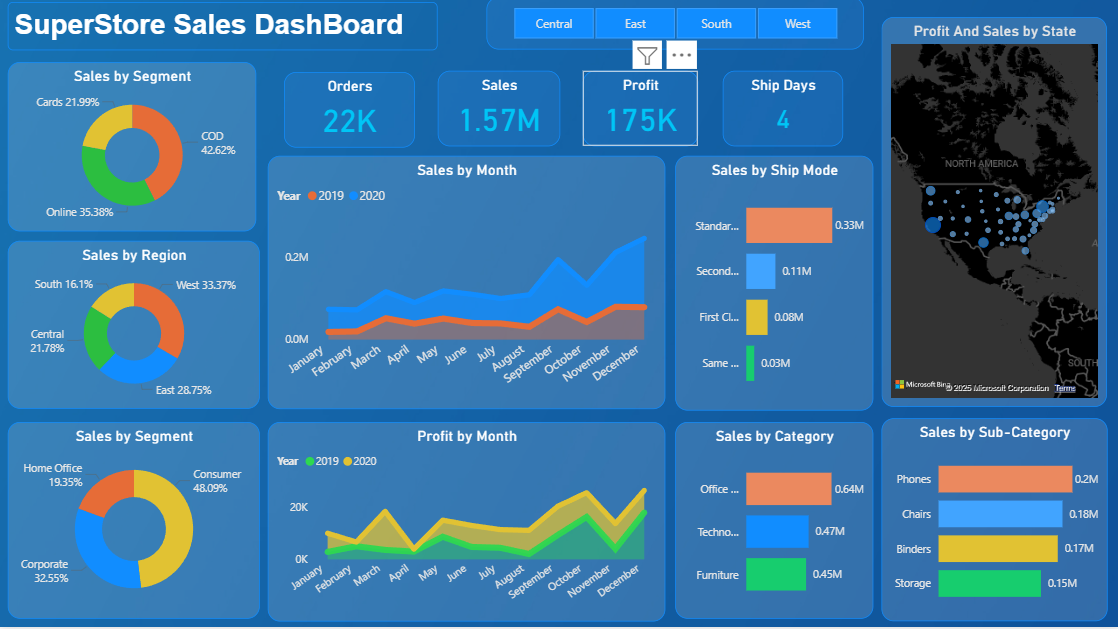

Layout of this report page (visuals, bound fields, positions):
{"tool":"powerbi","page":{"name":"SuperStore","canvas":[1280,720],"ordinal":0},"visuals":[{"type":"clusteredBarChart","title":"Sales by Category","fields":{"Y":["Sum(SuperStore_Sales_Dataset.Sales)"],"Category":["SuperStore_Sales_Dataset.Category"]},"box":[772.6,485.7,226.2,225],"z":0},{"type":"clusteredBarChart","title":"Sales by Sub-Category","fields":{"Y":["Sum(SuperStore_Sales_Dataset.Sales)"],"Category":["SuperStore_Sales_Dataset.Sub-Category"]},"box":[1008.3,481,258.3,232.1],"z":1000},{"type":"clusteredBarChart","title":"Sales by Ship Mode","fields":{"Y":["Sum(SuperStore_Sales_Dataset.Sales)"],"Category":["SuperStore_Sales_Dataset.Ship Mode"]},"box":[772.6,181.1,226.4,290.9],"z":2000},{"type":"stackedAreaChart","title":"Sales by Month","fields":{"Category":["SuperStore_Sales_Dataset.Order Date.Variation.Date Hierarchy.Month","SuperStore_Sales_Dataset.Order Date.Variation.Date Hierarchy.Day"],"Y":["Sum(SuperStore_Sales_Dataset.Sales)"],"Series":["SuperStore_Sales_Dataset.Order Date.Variation.Date Hierarchy.Year"]},"box":[307.4,181.1,454.2,289.5],"z":3000},{"type":"stackedAreaChart","title":"Profit by Month","fields":{"Category":["SuperStore_Sales_Dataset.Order Date.Variation.Date Hierarchy.Month","SuperStore_Sales_Dataset.Order Date.Variation.Date Hierarchy.Day"],"Series":["SuperStore_Sales_Dataset.Order Date.Variation.Date Hierarchy.Year"],"Y":["Sum(SuperStore_Sales_Dataset.Profit)"]},"box":[307.4,485.8,454.2,227.8],"z":4000},{"type":"map","title":" Profit And Sales by State","fields":{"Category":["SuperStore_Sales_Dataset.State"],"Size":["Sum(SuperStore_Sales_Dataset.Sales)"]},"box":[1008.6,23.3,258,446],"z":5000},{"type":"donutChart","title":"Sales by Segment","fields":{"Category":["SuperStore_Sales_Dataset.Segment"],"Y":["Sum(SuperStore_Sales_Dataset.Sales)"]},"box":[9.6,485.8,288.2,225],"z":6000},{"type":"donutChart","title":"Sales by Region","fields":{"Category":["SuperStore_Sales_Dataset.Region"],"Y":["Sum(SuperStore_Sales_Dataset.Sales)"]},"box":[9.6,278.6,288.2,192.1],"z":7000},{"type":"donutChart","title":"Sales by Segment","fields":{"Category":["SuperStore_Sales_Dataset.Payment Mode"],"Y":["Sum(SuperStore_Sales_Dataset.Sales)"]},"box":[9.6,74.1,284,193.5],"z":8000},{"type":"slicer","fields":{"Values":["SuperStore_Sales_Dataset.Region"]},"box":[557.1,0,430.9,60.4],"z":9000},{"type":"textbox","box":[9.6,5.5,491.3,54.9],"z":10000},{"type":"card","title":"Sales","fields":{"Values":["Sum(SuperStore_Sales_Dataset.Sales)"]},"box":[500.9,83.7,140,86.4],"z":11000},{"type":"card","title":"Profit","fields":{"Values":["Sum(SuperStore_Sales_Dataset.Profit)"]},"box":[666.9,83.7,131.7,86.4],"z":12000},{"type":"card","title":"Orders","fields":{"Values":["Sum(SuperStore_Sales_Dataset.Quantity)"]},"box":[325.2,85.1,149.6,86.4],"z":13000},{"type":"card","title":"Ship Days","fields":{"Values":["Avg(SuperStore_Sales_Dataset.AvgDelivery)"]},"box":[827.4,83.7,137.2,86.4],"z":14000}]}

Visuals, with their boxes in screenshot pixels (x1, y1, x2, y2), scaled from the page's 1280x720 canvas onto the 1118x629 screenshot:
"Sales by Category" clusteredBarChart: (x1=675, y1=424, x2=872, y2=621)
"Sales by Sub-Category" clusteredBarChart: (x1=881, y1=420, x2=1106, y2=623)
"Sales by Ship Mode" clusteredBarChart: (x1=675, y1=158, x2=873, y2=412)
"Sales by Month" stackedAreaChart: (x1=268, y1=158, x2=665, y2=411)
"Profit by Month" stackedAreaChart: (x1=268, y1=424, x2=665, y2=623)
" Profit And Sales by State" map: (x1=881, y1=20, x2=1106, y2=410)
"Sales by Segment" donutChart: (x1=8, y1=424, x2=260, y2=621)
"Sales by Region" donutChart: (x1=8, y1=243, x2=260, y2=411)
"Sales by Segment" donutChart: (x1=8, y1=65, x2=256, y2=234)
slicer - SuperStore_Sales_Dataset.Region: (x1=487, y1=0, x2=863, y2=53)
textbox: (x1=8, y1=5, x2=438, y2=53)
"Sales" card: (x1=438, y1=73, x2=560, y2=149)
"Profit" card: (x1=582, y1=73, x2=698, y2=149)
"Orders" card: (x1=284, y1=74, x2=415, y2=150)
"Ship Days" card: (x1=723, y1=73, x2=843, y2=149)
